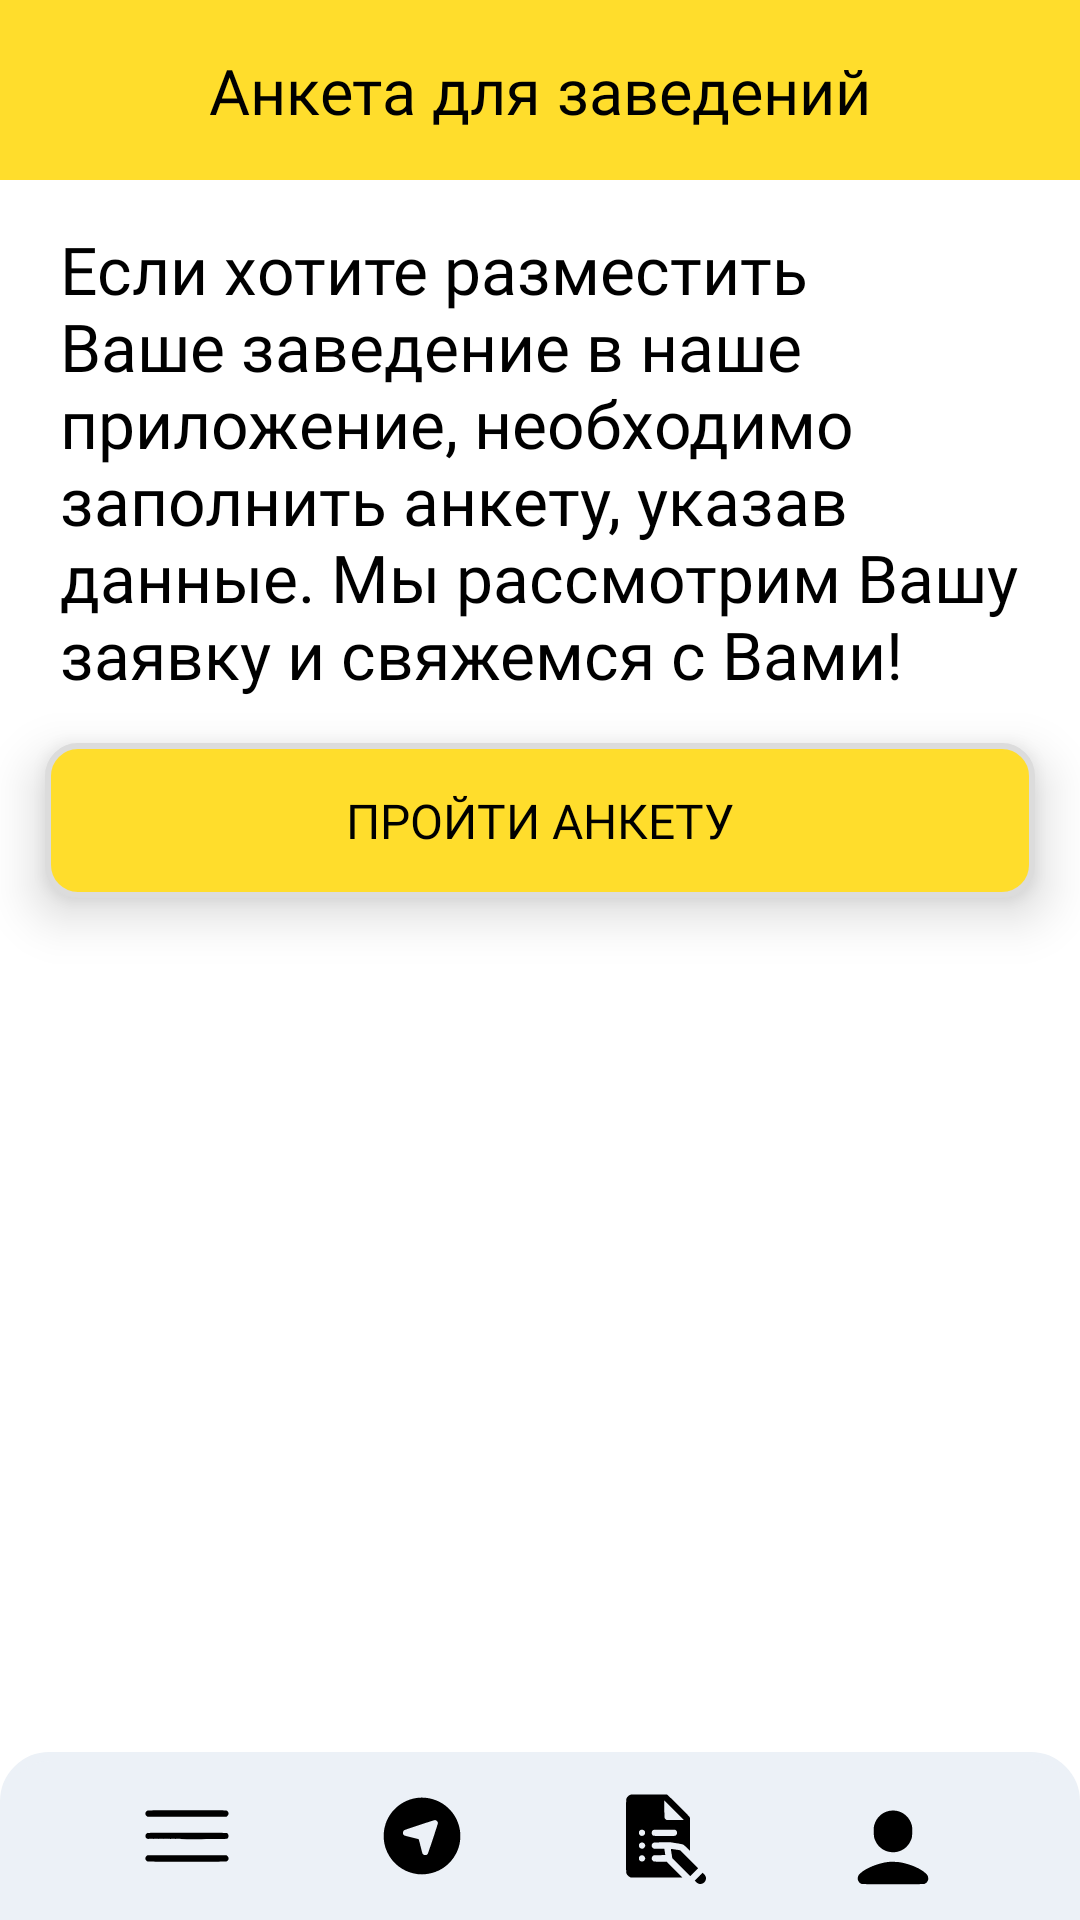

Point at icon controls on the screen. Image size 1080x1920, points as (x=x, y=y).
near me: (x=422, y=1836)
reservation: (x=666, y=1839)
user: (x=893, y=1847)
